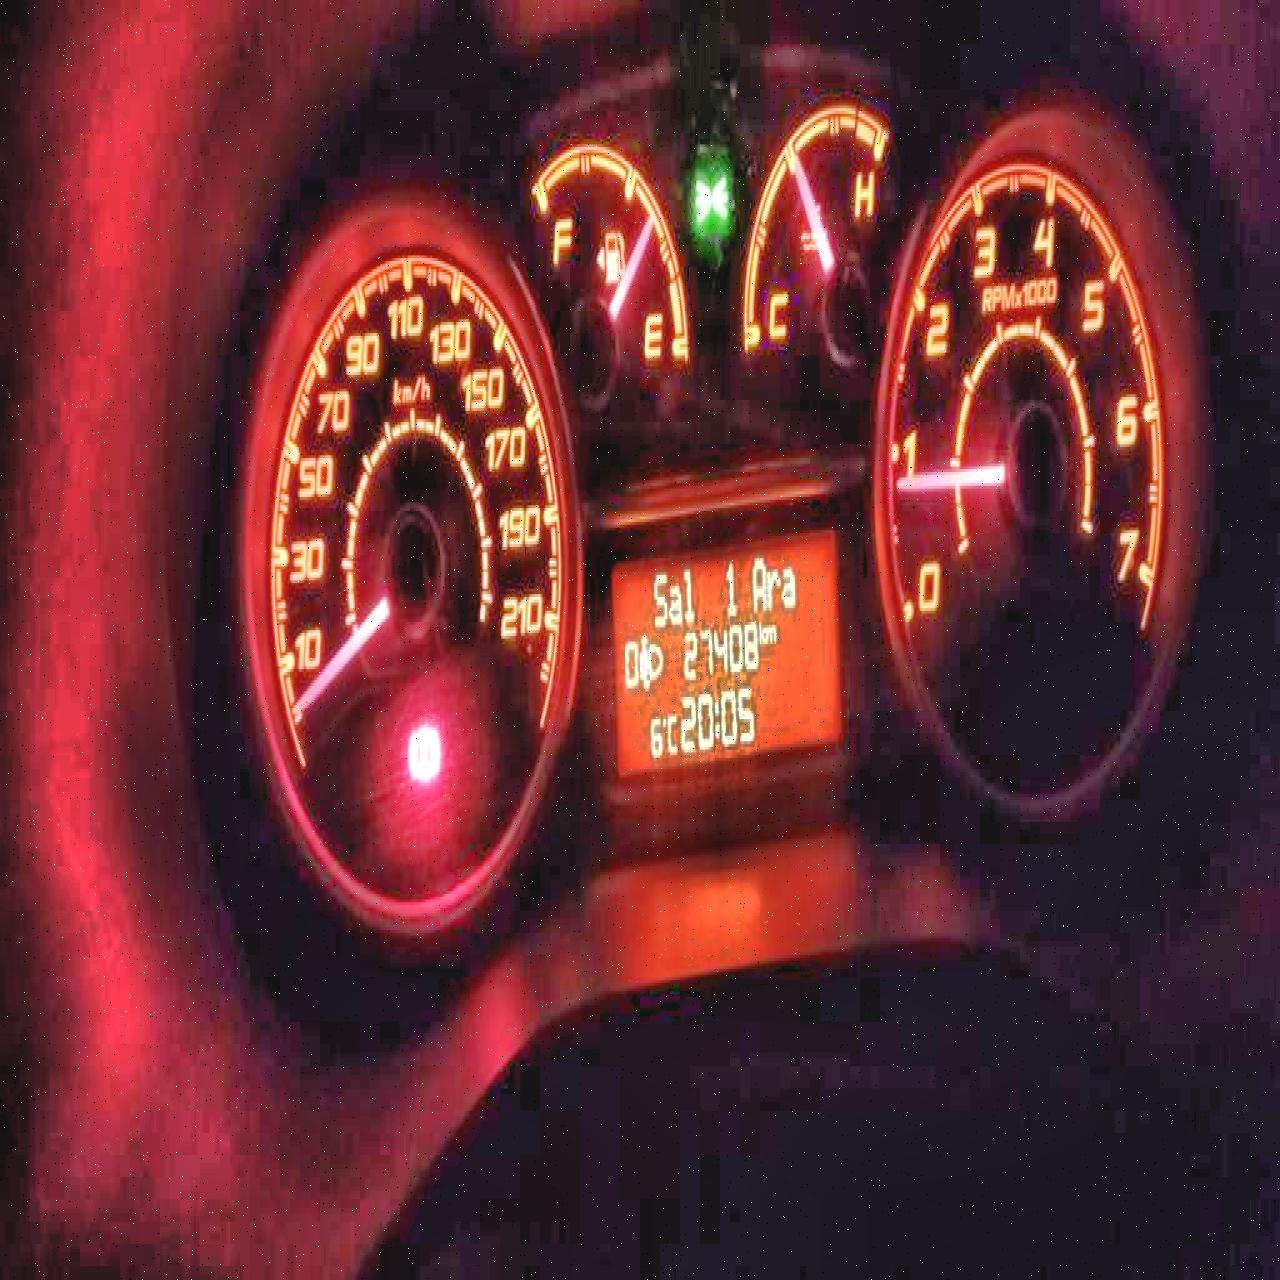0: (719, 686, 736, 747), (696, 692, 713, 747), (624, 636, 638, 686), (728, 622, 742, 669)
1: (723, 556, 736, 617)
2: (679, 694, 695, 753), (682, 627, 697, 681)
4: (713, 625, 728, 669)
5: (736, 683, 754, 744)
6: (651, 710, 661, 755)
7: (699, 625, 713, 672)
8: (742, 620, 757, 667)
X: (652, 568, 667, 629), (750, 552, 765, 611), (681, 564, 695, 622), (782, 564, 797, 608), (667, 580, 681, 625), (765, 566, 779, 607), (667, 710, 678, 755), (713, 694, 719, 738), (765, 619, 776, 644), (757, 617, 764, 641)
odometer: (606, 522, 842, 777)
